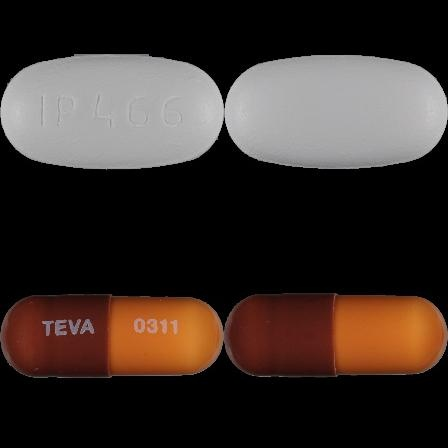66336-030: (0, 0, 224, 224)
